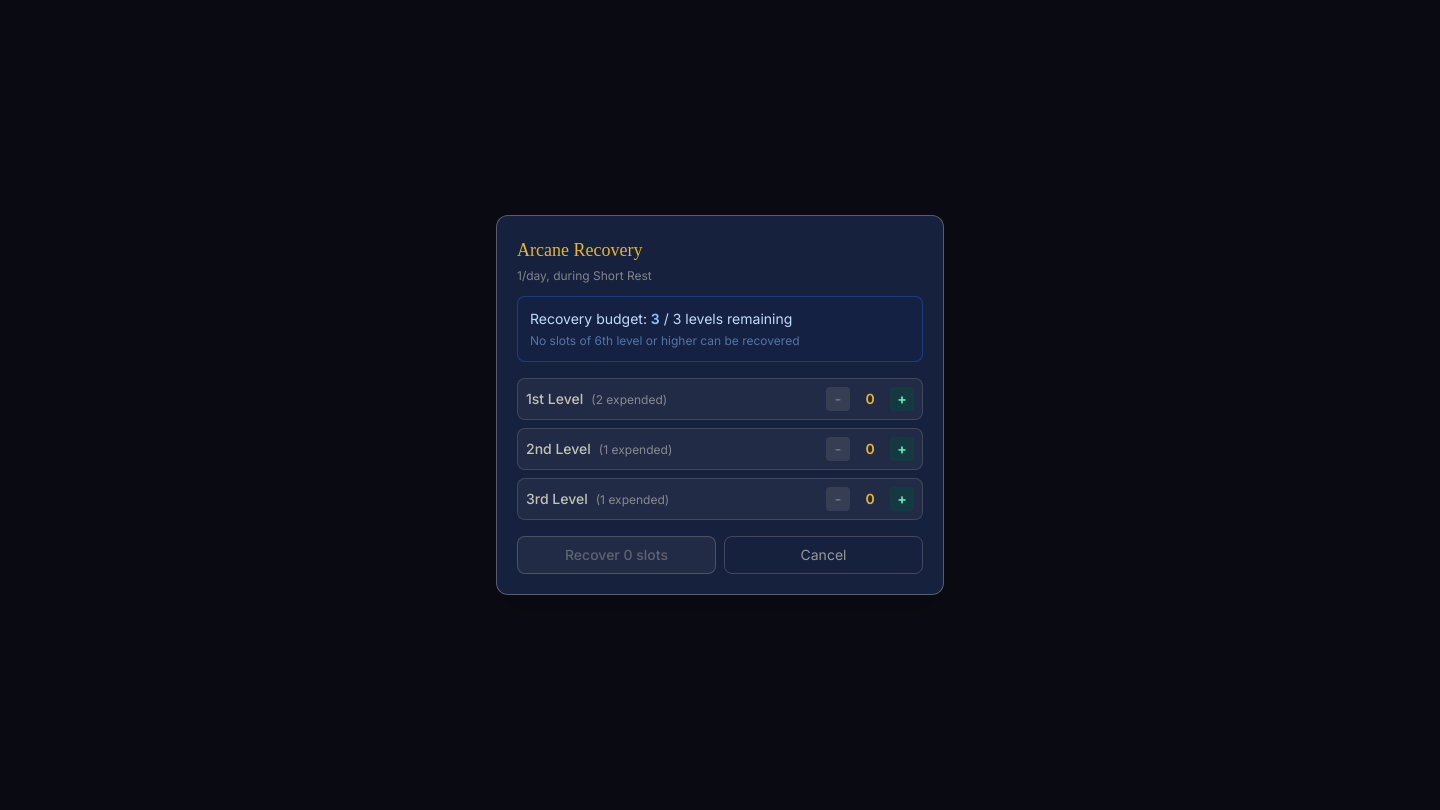
Test: ArcaneRecoveryModal › should update budget remaining when slots are selected
Step 1. Click the button with test id "recovery-add-1" → [902, 399], box x1=890 y1=387 x2=914 y2=411
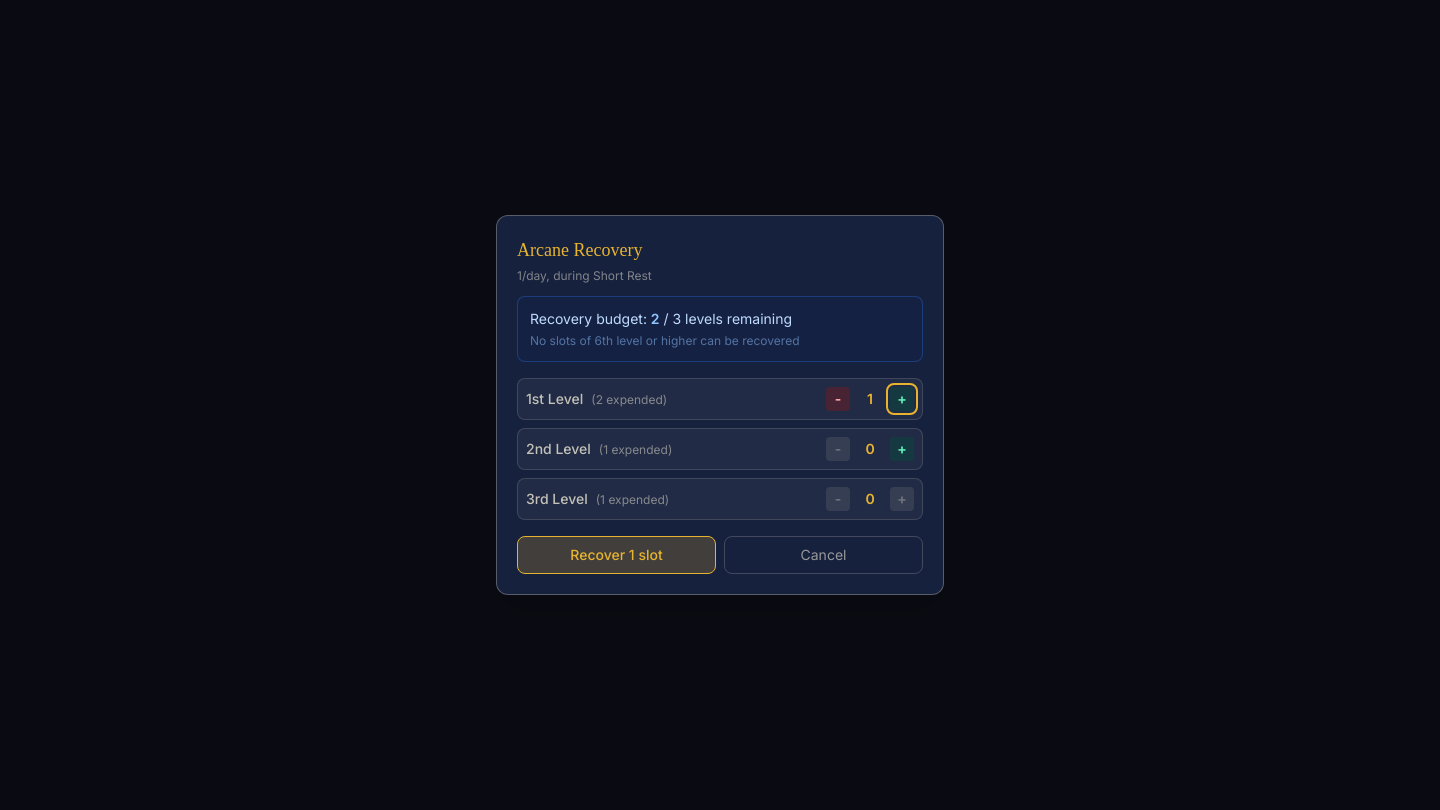
Now the element with test id "recovery-budget" shows "2", box x1=651 y1=310 x2=660 y2=327
